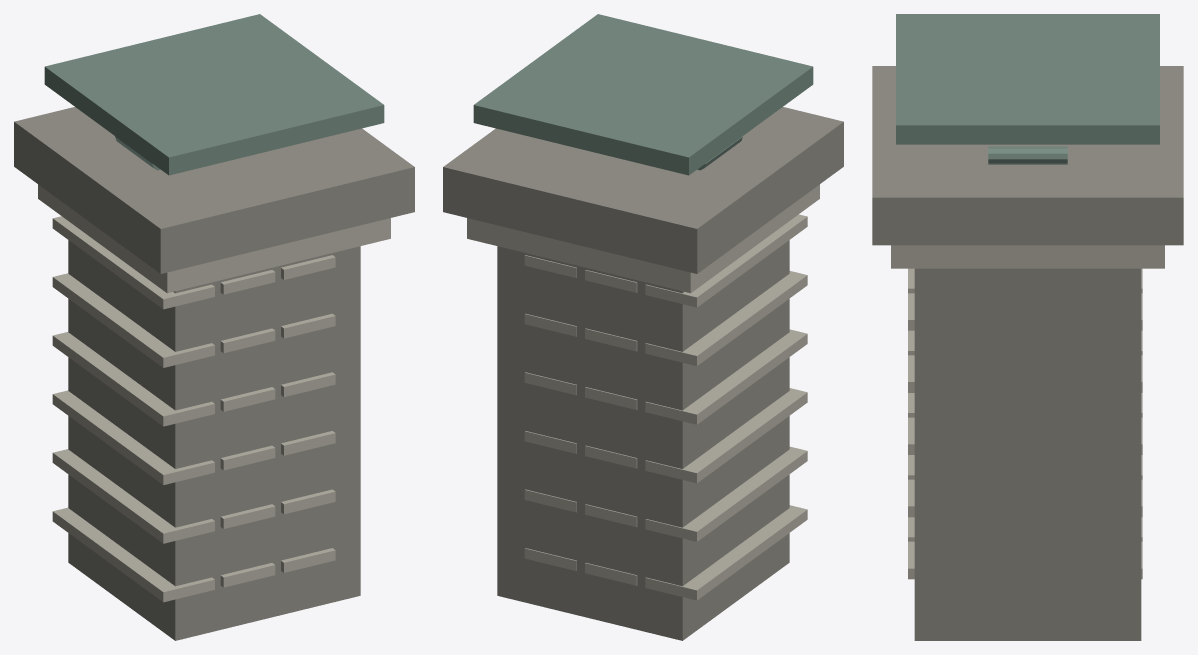
Rendered from chimney_detail.glb.
3 renders of one model, left to right at view 1: azimuth 30°, elevation 25°; view 2: azimuth 150°, elevation 25°; view 3: azimuth 270°, elevation 25°, orthographic. The views are drawn at different scales.
Parts seen in each view (by area): view 1: chimney_detail_0, chimney_detail_20, chimney_detail_23, chimney_detail_19, chimney_detail_1, chimney_detail_7, chimney_detail_13, chimney_detail_4, chimney_detail_10, chimney_detail_16, chimney_detail_14, chimney_detail_5 (+10 smaller); view 2: chimney_detail_0, chimney_detail_20, chimney_detail_23, chimney_detail_19, chimney_detail_1, chimney_detail_7, chimney_detail_10, chimney_detail_13, chimney_detail_4, chimney_detail_16, chimney_detail_8, chimney_detail_12 (+10 smaller); view 3: chimney_detail_0, chimney_detail_23, chimney_detail_20, chimney_detail_19, chimney_detail_22.
Boxes of the visible parts, x1,y1,x2,y2 form: chimney_detail_0: (68, 240, 360, 640); chimney_detail_20: (14, 107, 414, 273); chimney_detail_23: (44, 14, 384, 175); chimney_detail_19: (38, 184, 390, 293); chimney_detail_1: (52, 507, 214, 602); chimney_detail_7: (52, 390, 214, 484); chimney_detail_13: (52, 273, 214, 367); chimney_detail_4: (52, 449, 214, 543); chimney_detail_10: (52, 332, 214, 426); chimney_detail_16: (52, 216, 214, 309); chimney_detail_14: (220, 328, 275, 353); chimney_detail_5: (220, 504, 275, 528); chimney_detail_0: (497, 240, 789, 640); chimney_detail_20: (443, 107, 843, 273); chimney_detail_23: (473, 14, 813, 175); chimney_detail_19: (467, 184, 819, 293); chimney_detail_1: (645, 505, 807, 600); chimney_detail_7: (645, 388, 807, 483); chimney_detail_10: (645, 329, 807, 424); chimney_detail_13: (645, 271, 807, 365); chimney_detail_4: (645, 446, 807, 541); chimney_detail_16: (645, 214, 807, 307); chimney_detail_8: (585, 445, 637, 468); chimney_detail_12: (524, 372, 576, 395); chimney_detail_0: (914, 268, 1141, 640); chimney_detail_23: (896, 14, 1159, 144); chimney_detail_20: (872, 66, 1183, 245); chimney_detail_19: (891, 245, 1164, 268); chimney_detail_22: (988, 146, 1067, 164).
Size of the model in its own units: 1.18 by 2.19 by 1.18.
